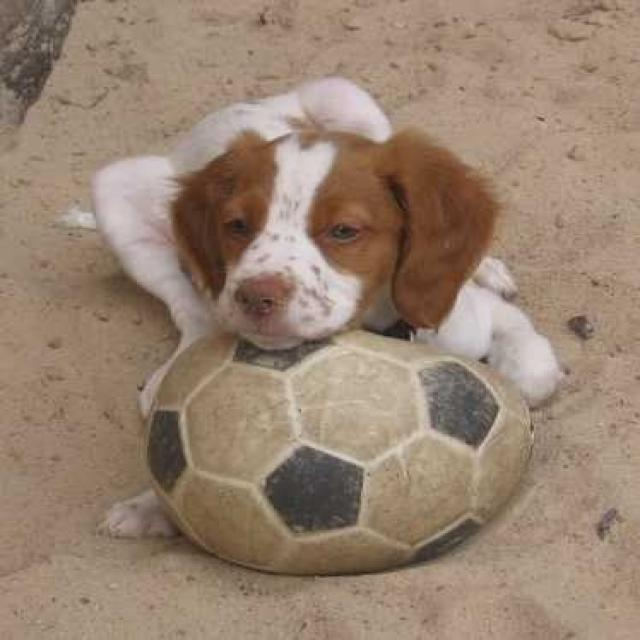ball: (146, 318, 533, 576)
